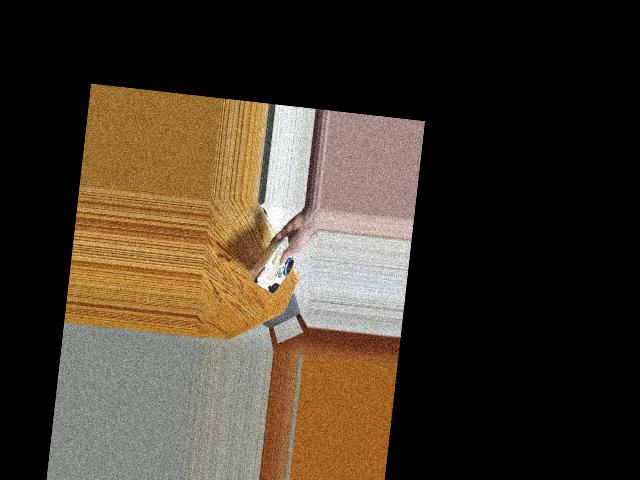cheese: (243, 241, 302, 293)
